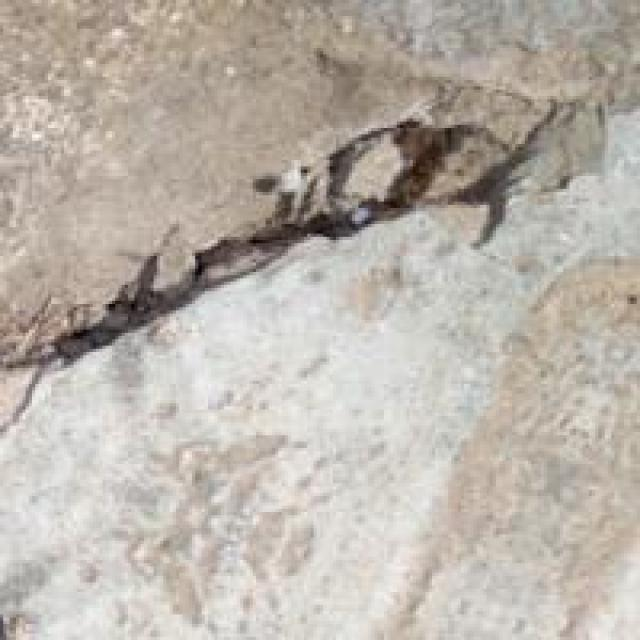Crack: (10, 106, 551, 480)
